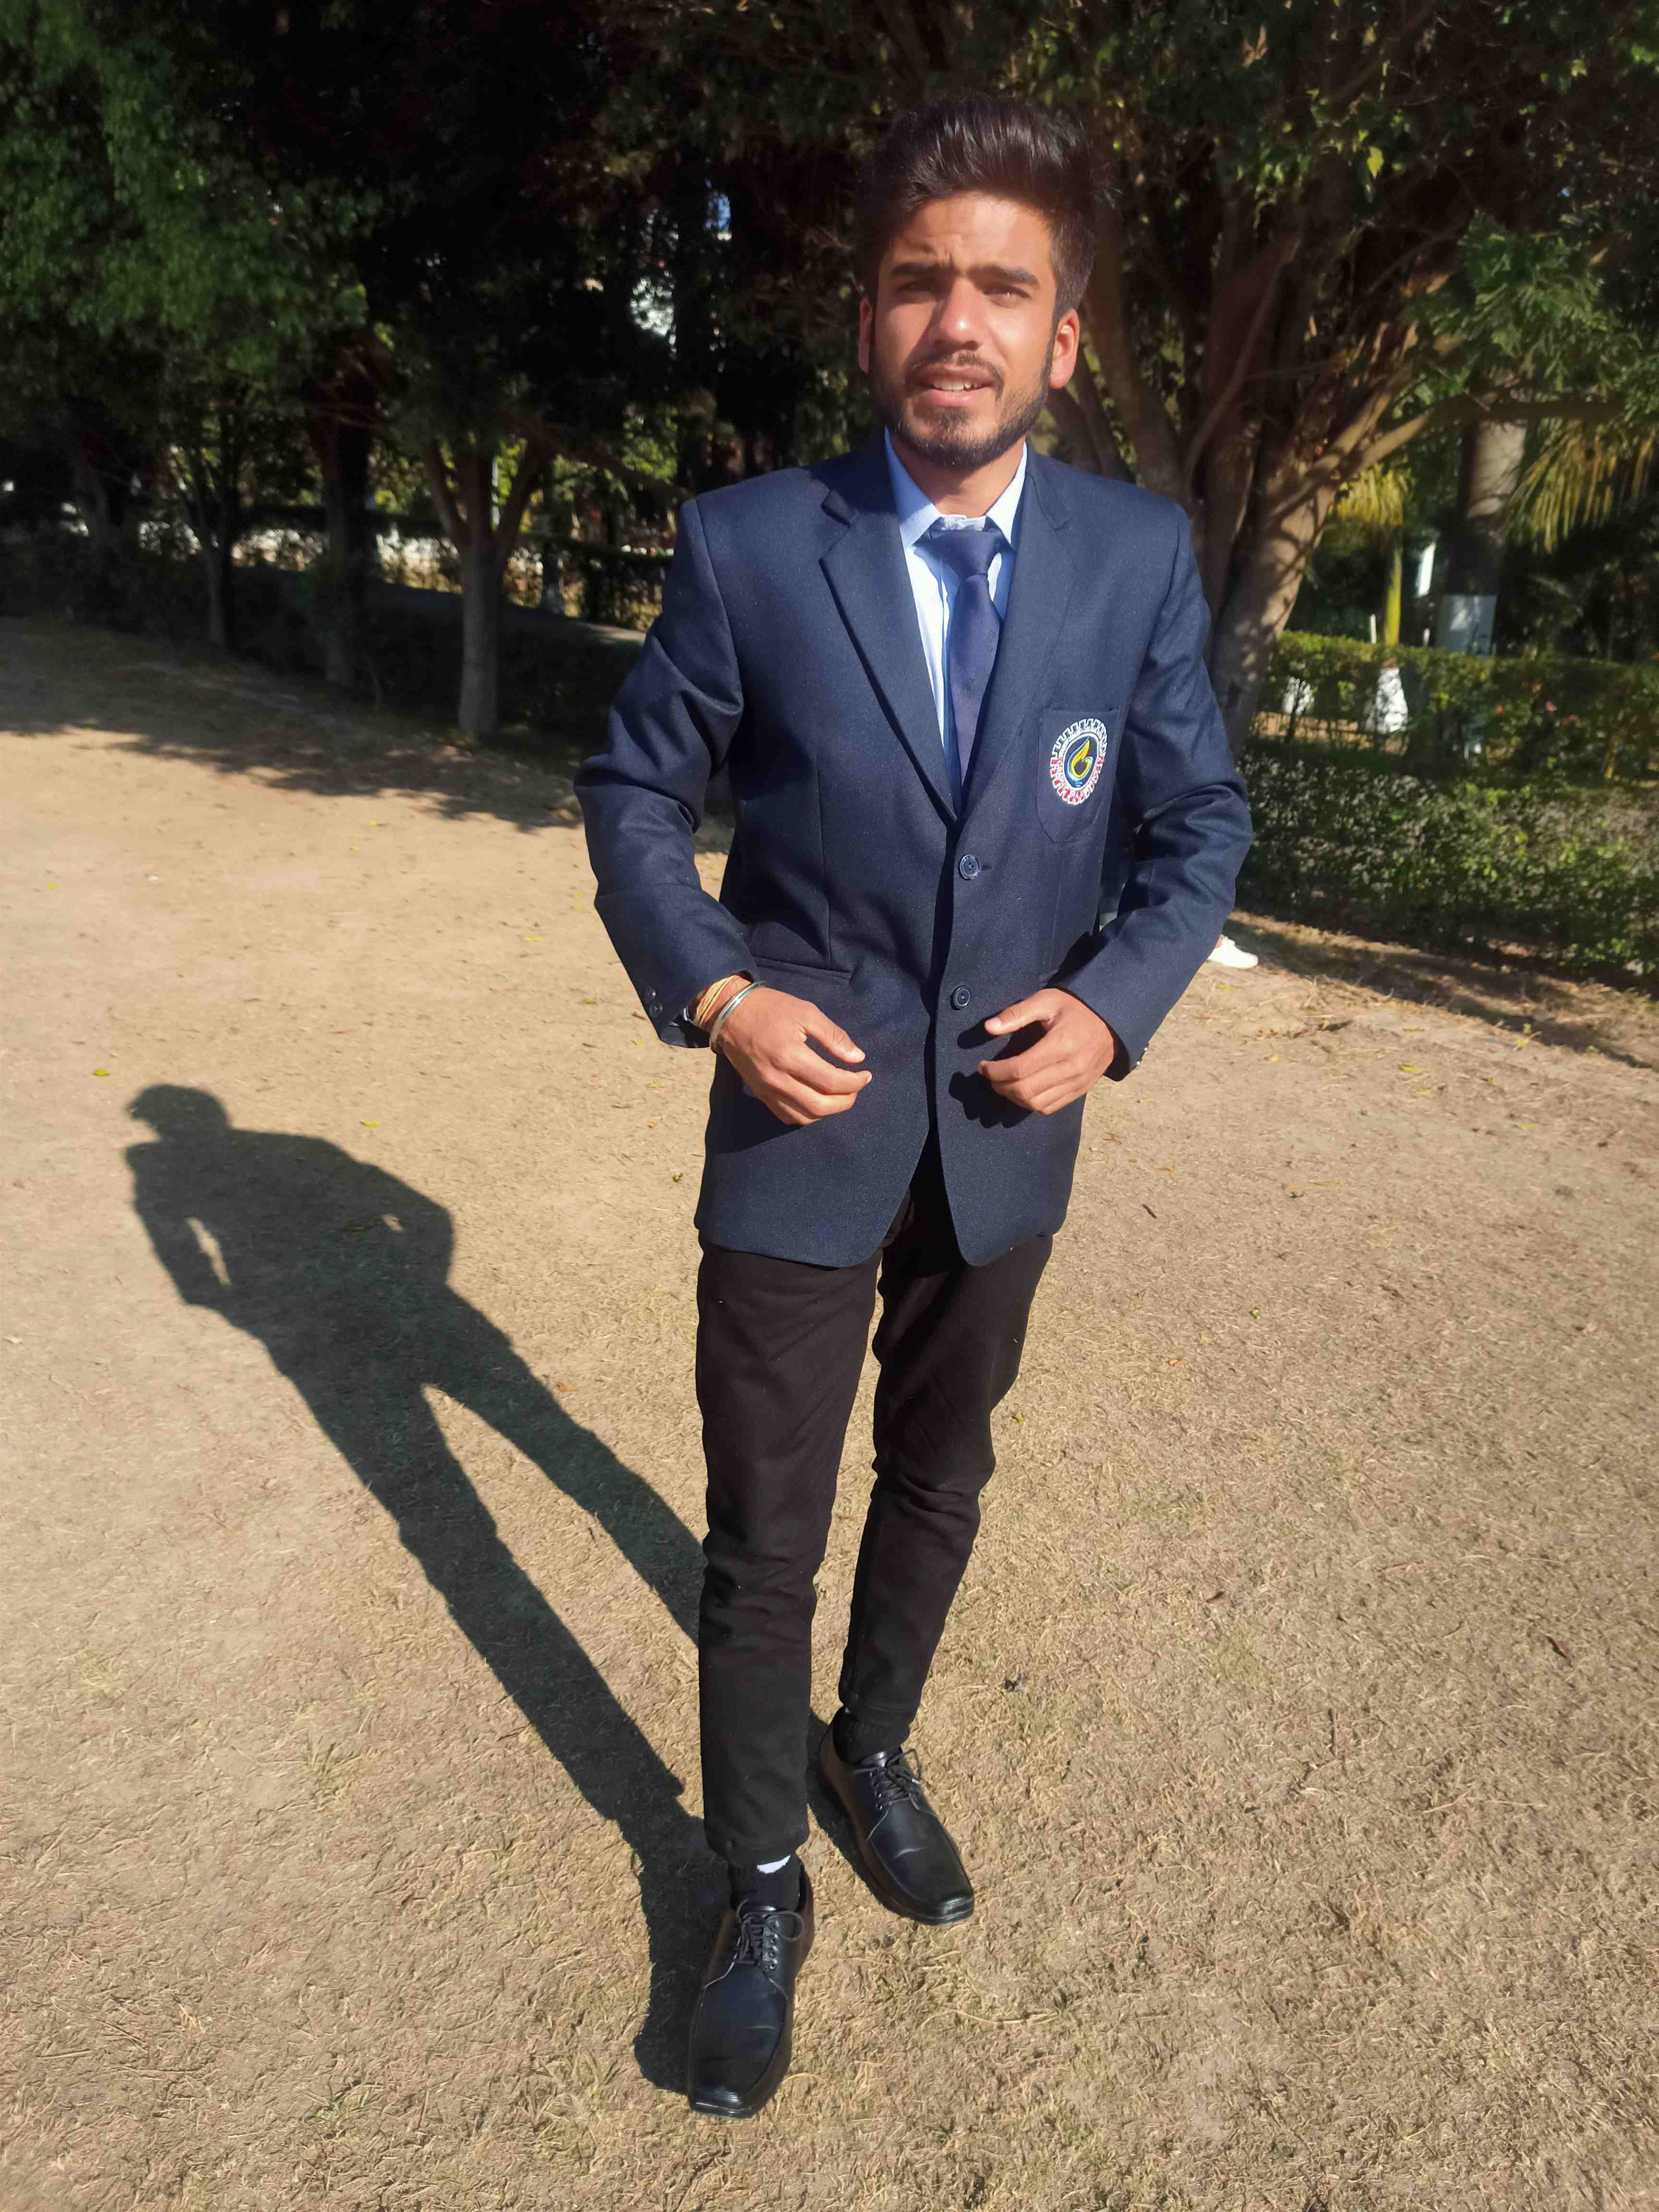blazer: (591, 430, 1253, 1233)
tie: (913, 488, 1030, 786)
